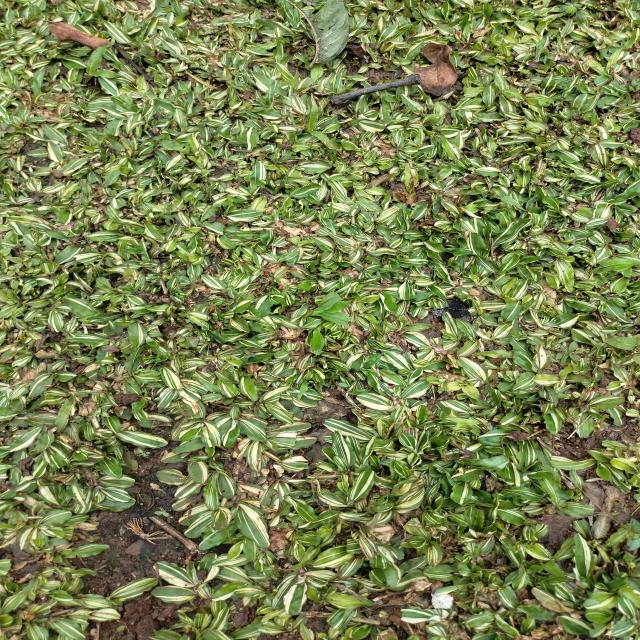bayi: (136, 447, 153, 459), (154, 508, 172, 518)
buah daun: (0, 120, 17, 138)
rambat bawah: (303, 289, 355, 357), (77, 38, 124, 87), (300, 99, 333, 148)
tunggang tengah: (552, 340, 586, 366)
ungu tunggang: (5, 253, 42, 278), (199, 65, 226, 83)
